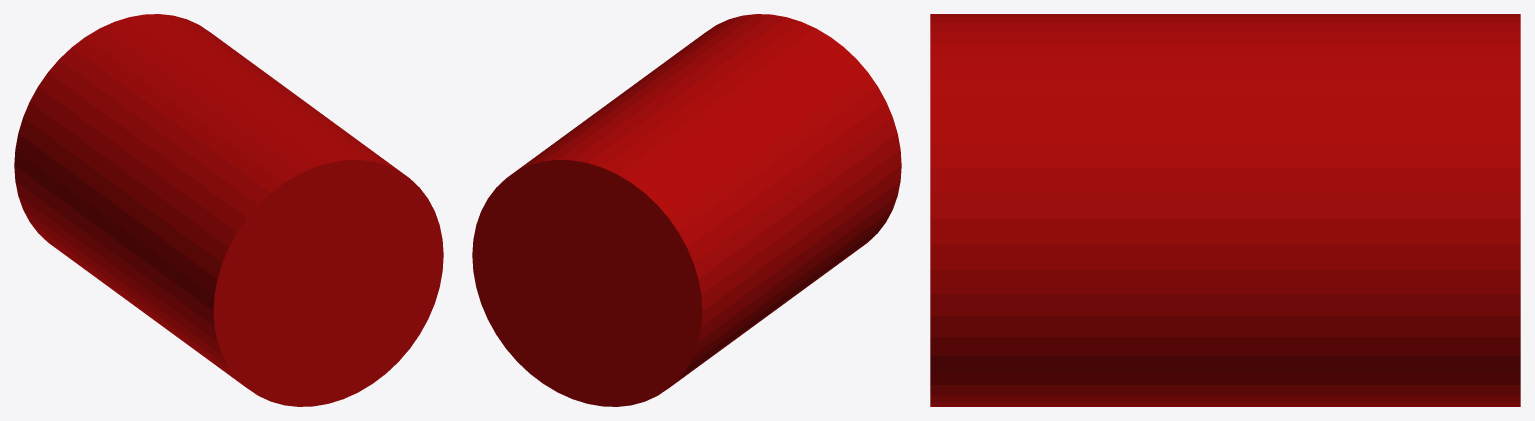
File: filter_indicator_clogged.obj
3 renders of one model, left to right at view 1: azimuth 30°, elevation 25°; view 2: azimuth 150°, elevation 25°; view 3: azimuth 270°, elevation 25°, orthographic. The views are drawn at different scales.
Parts seen in each view (by area): view 1: filter_indicator_clogged; view 2: filter_indicator_clogged; view 3: filter_indicator_clogged.
Part boxes in pixels (<box>): filter_indicator_clogged: <box>14,14,443,406</box>; filter_indicator_clogged: <box>472,14,901,406</box>; filter_indicator_clogged: <box>930,14,1520,406</box>.
Bounding box in the file's own units: 0.04 × 0.04 × 0.06.
